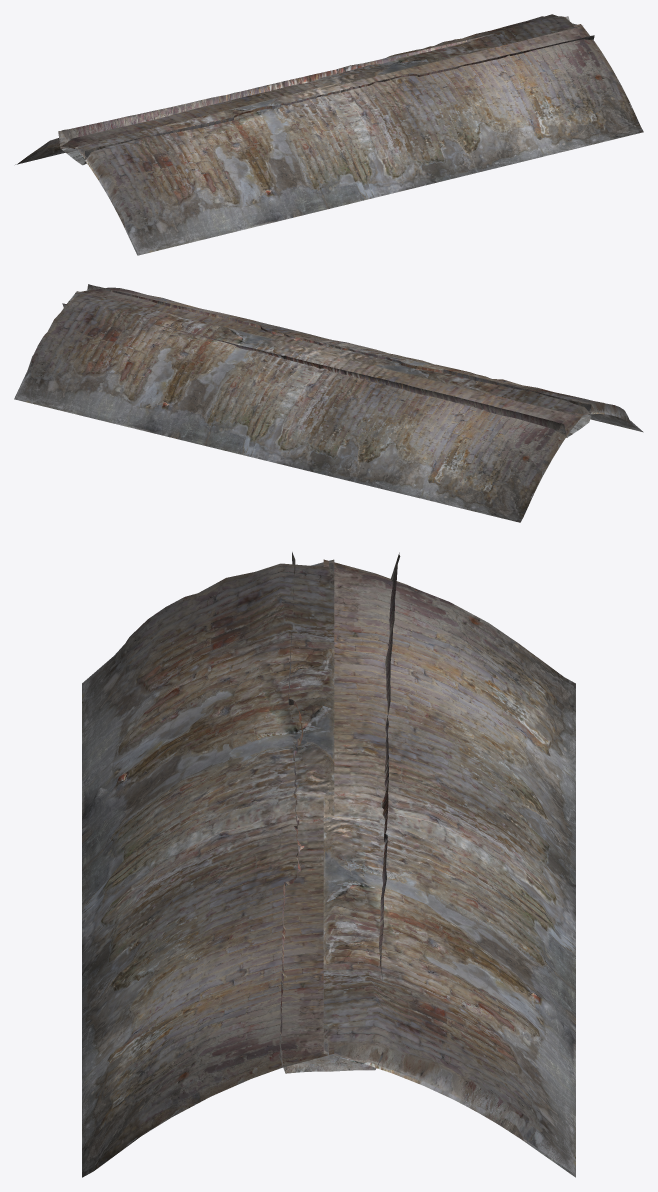
File: SM_CryptCeiling_01_02.fbx
3 renders of one model, top to bottom at view 1: azimuth 30°, elevation 25°; view 2: azimuth 150°, elevation 25°; view 3: azimuth 270°, elevation 25°, orthographic. The views are drawn at different scales.
Parts seen in each view (by area): view 1: sm_CryptCeiling_01_02_LOD0; view 2: sm_CryptCeiling_01_02_LOD0; view 3: sm_CryptCeiling_01_02_LOD0.
Part boxes in pixels (x1,y1,x2,y2): sm_CryptCeiling_01_02_LOD0: (15, 14, 643, 255); sm_CryptCeiling_01_02_LOD0: (14, 284, 643, 522); sm_CryptCeiling_01_02_LOD0: (82, 552, 575, 1177).
Size of the model in its own units: 300 by 710 by 88.8.
